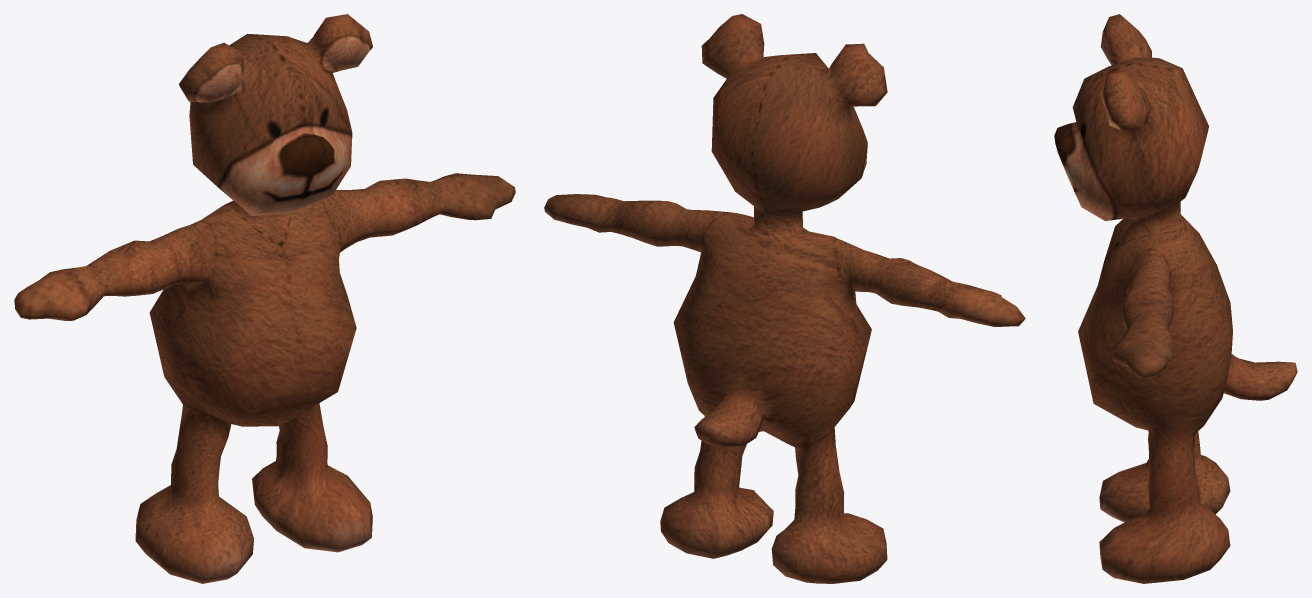
Rendered from TeddyModel.fbx.
3 renders of one model, left to right at view 1: azimuth 30°, elevation 25°; view 2: azimuth 150°, elevation 25°; view 3: azimuth 270°, elevation 25°, orthographic. The views are drawn at different scales.
Parts seen in each view (by area): view 1: teddyzsphere_unfold3d; view 2: teddyzsphere_unfold3d; view 3: teddyzsphere_unfold3d.
Boxes of the visible parts, x1,y1,x2,y2 form: teddyzsphere_unfold3d: (14,14,515,583); teddyzsphere_unfold3d: (544,14,1025,583); teddyzsphere_unfold3d: (1054,14,1297,583).
Size of the model in its own units: 251 by 258 by 114.
1 material, 1 textured.
